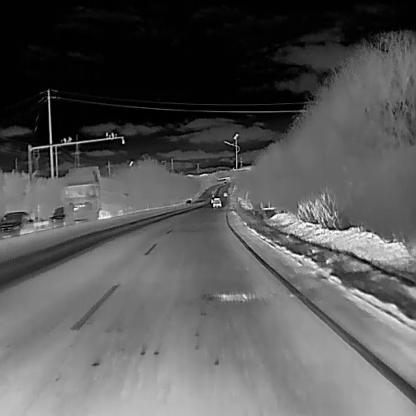car: (0, 210, 32, 236), (211, 196, 222, 207)
truck: (64, 166, 131, 220)
